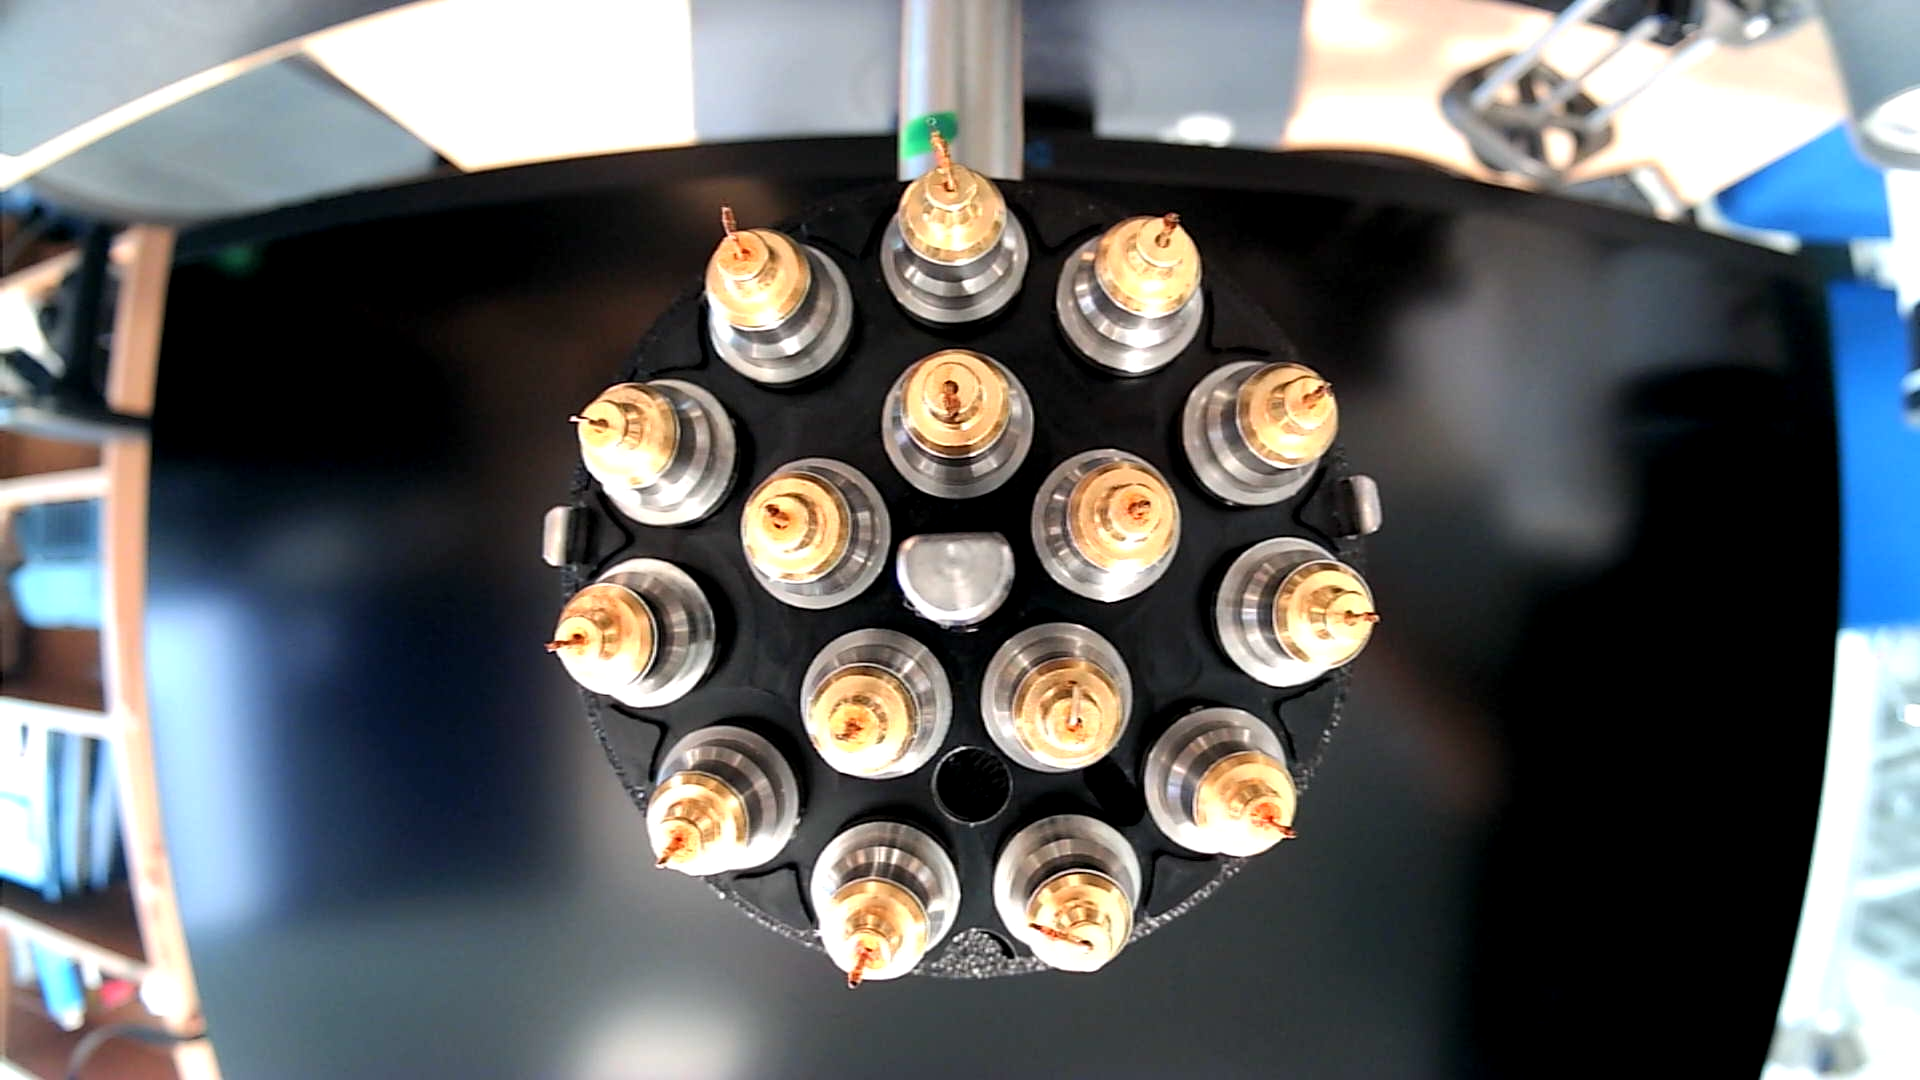bent: (880, 121, 1030, 328), (988, 811, 1147, 981), (978, 617, 1137, 781), (876, 345, 1036, 505)
hole: (927, 738, 1013, 832)
pin: (700, 199, 857, 392), (541, 554, 725, 712), (807, 814, 963, 992), (1205, 534, 1377, 691), (567, 375, 740, 530), (1055, 208, 1207, 380), (1141, 702, 1302, 862), (796, 625, 956, 782), (644, 723, 800, 882), (1029, 446, 1183, 605), (1178, 359, 1337, 513), (738, 455, 894, 611)
rod: (895, 527, 1015, 628)
